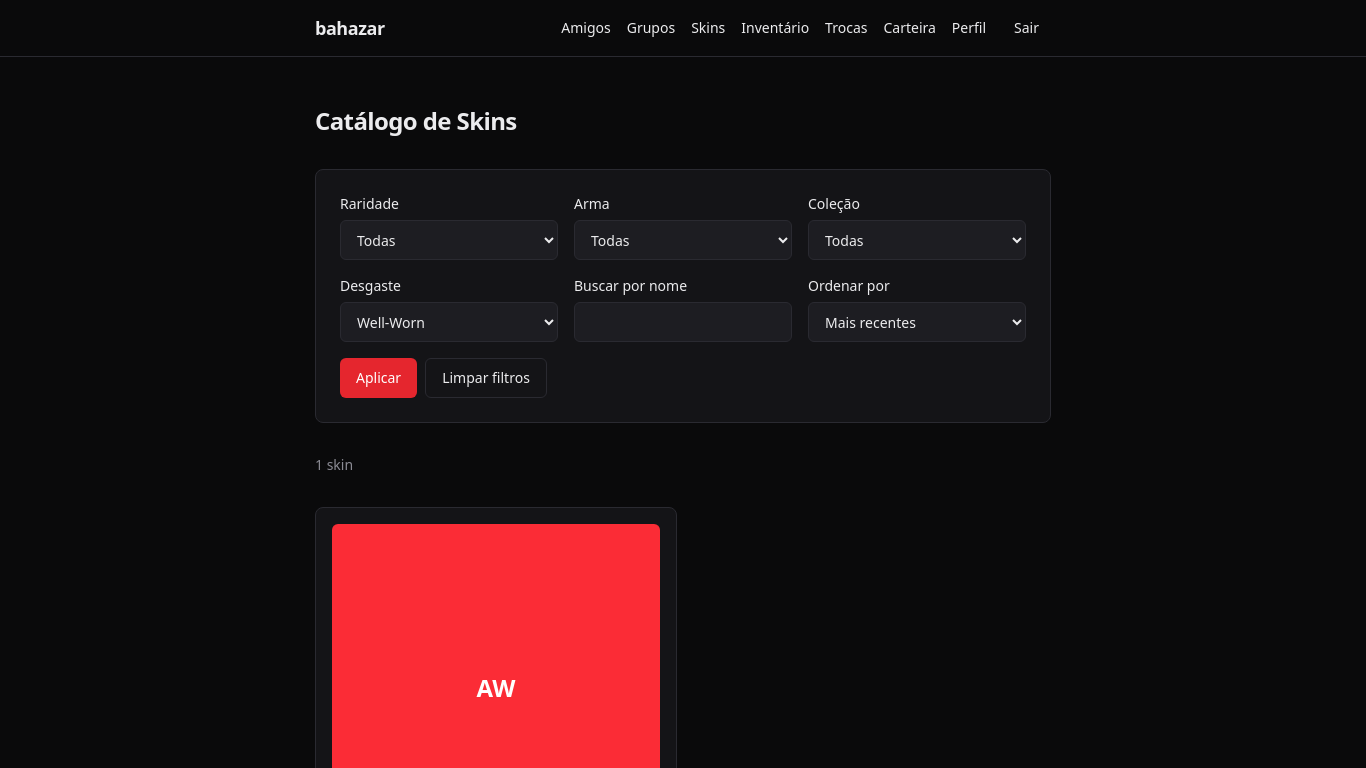
Test: SkinsPage: catálogo /skins › filtros, ordenação e paginação › Limpar filtros volta à rota pura
The width and height of the screenshot is (1366, 768).
What coordinates should you click on to do the following:
click the button "Limpar filtros"
I would click on:
 (486, 378)
Its box is [425, 358, 547, 398].
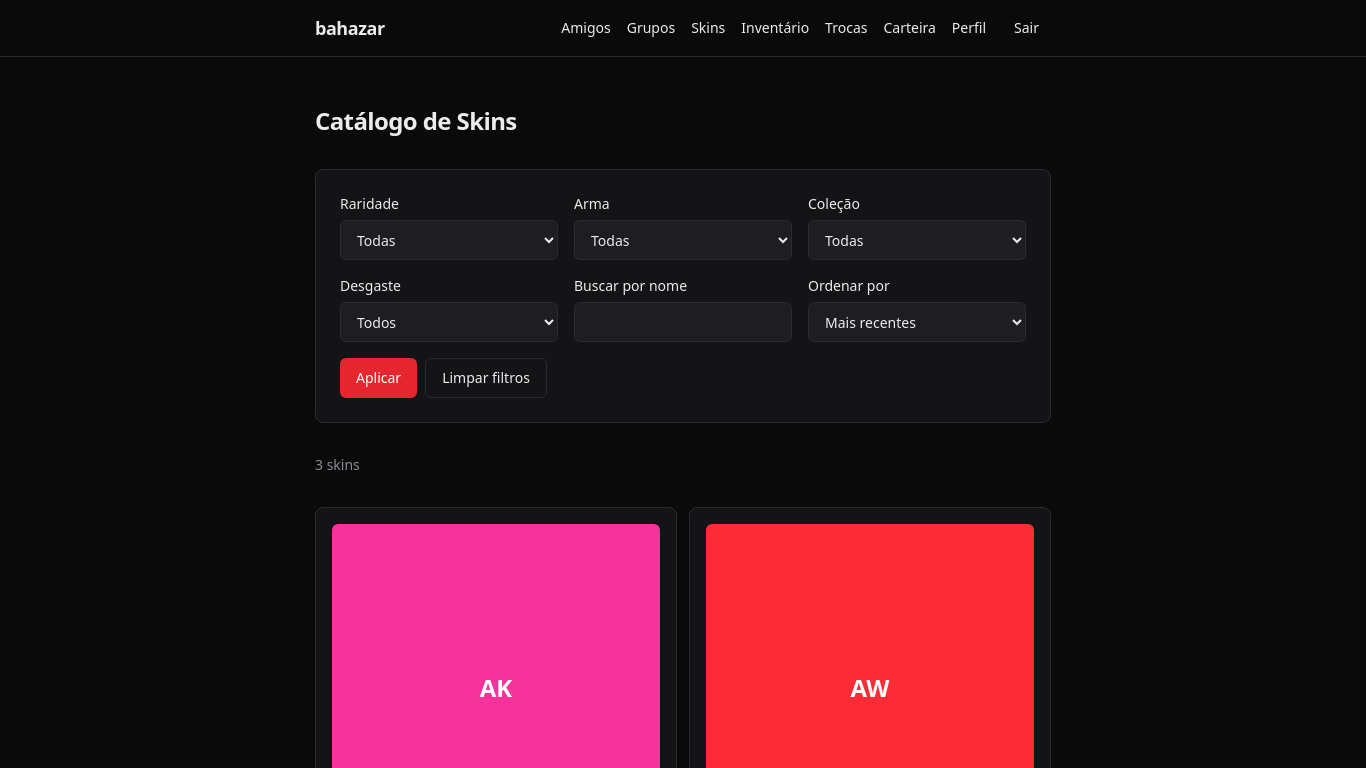
Expected: the dropdown labelled "Desgaste" shows "Todos", [340, 302, 558, 342]
